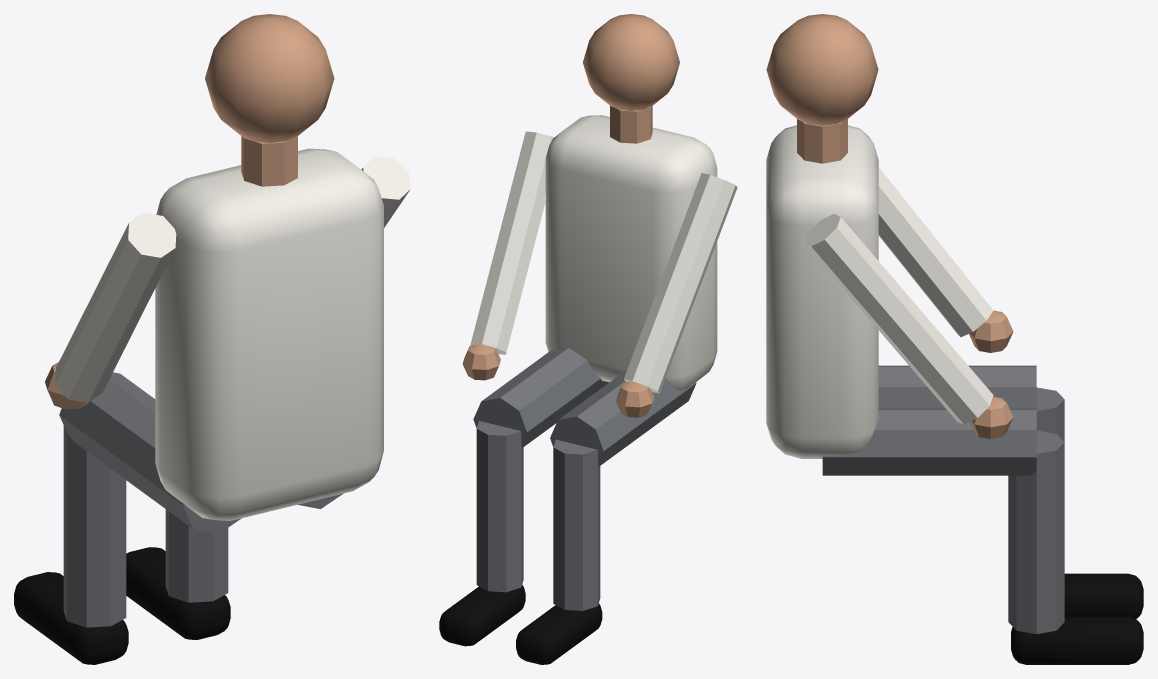
The model's file is people.staff.office_worker.glb.
3 views of the same model, side by side, from view 1: azimuth 30°, elevation 25°; view 2: azimuth 150°, elevation 25°; view 3: azimuth 270°, elevation 25° (orthographic). The views are drawn at different scales.
Visible parts, largest first — view 1: main__fabric_white, main__fabric_grey, main__skin, main__plastic_black; view 2: main__fabric_white, main__fabric_grey, main__skin, main__plastic_black; view 3: main__fabric_white, main__fabric_grey, main__skin, main__plastic_black.
Part boxes in pixels (x1,y1,x2,y2): main__fabric_white: (55, 148, 410, 520); main__fabric_grey: (59, 372, 343, 627); main__skin: (45, 14, 334, 409); main__plastic_black: (14, 547, 230, 664); main__fabric_white: (470, 115, 737, 393); main__fabric_grey: (473, 347, 696, 610); main__skin: (462, 14, 679, 417); main__plastic_black: (439, 585, 602, 664); main__fabric_white: (766, 125, 993, 458); main__fabric_grey: (822, 365, 1064, 633); main__skin: (766, 14, 1013, 438); main__plastic_black: (1011, 573, 1143, 664).
Bounding box in the file's own units: 0.5496 × 1.34 × 0.74.
